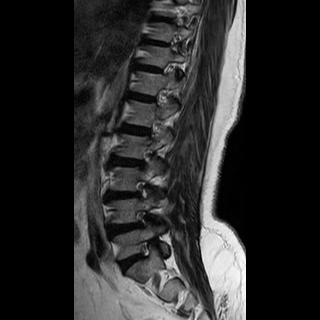RFS1: (130, 175, 155, 202)
RFS2: (131, 204, 155, 232)
